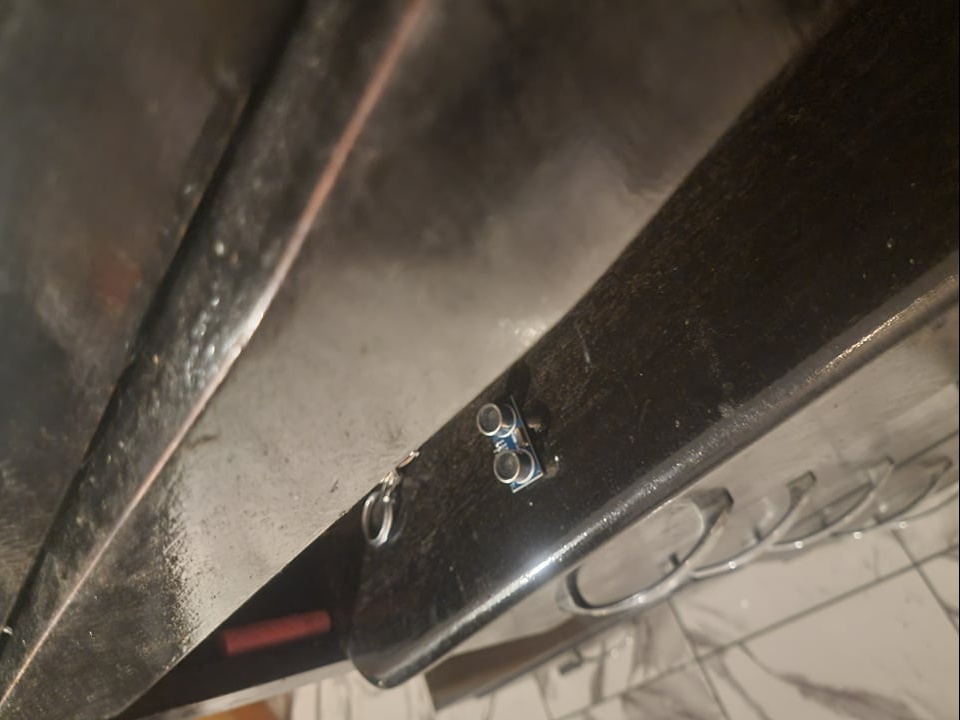SENSOR: (475, 394, 545, 495)
